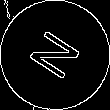N_SE: (23, 24, 87, 86)
